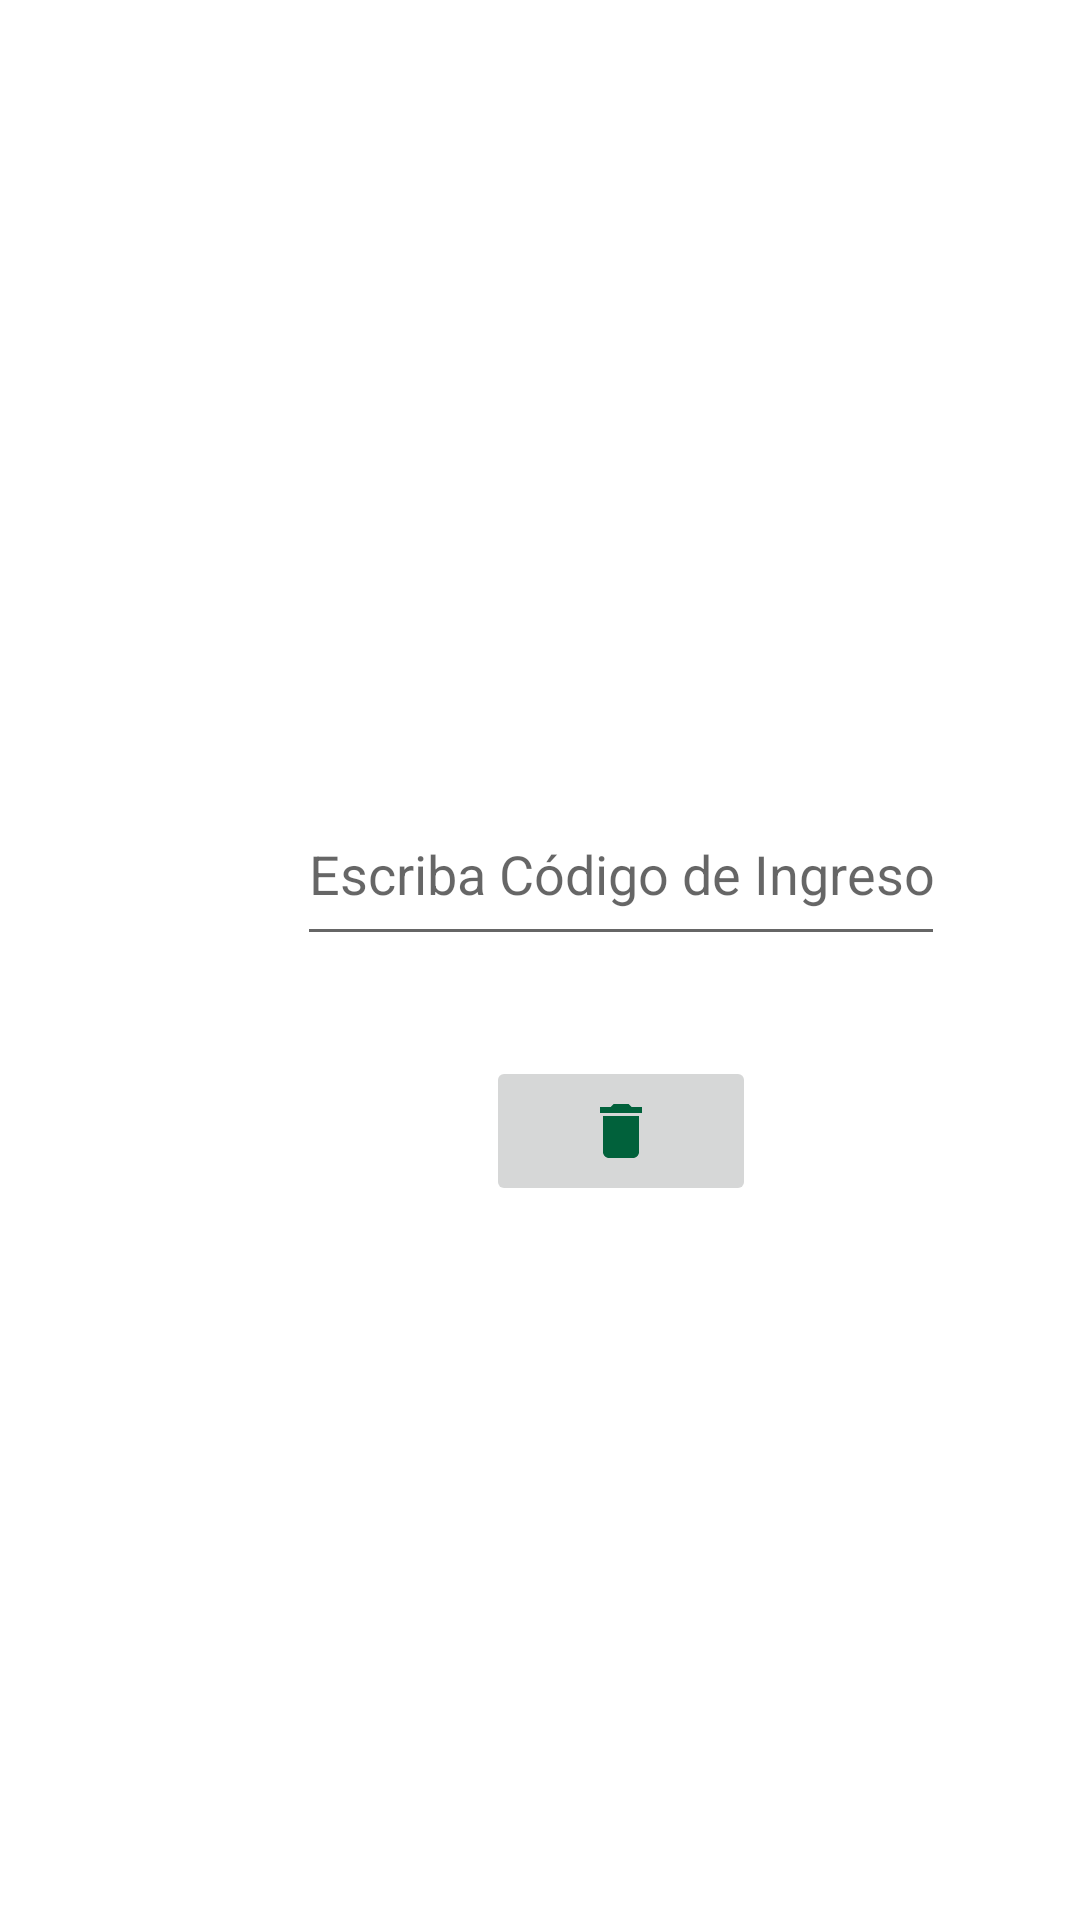

Screen size 1080px x 1920px. Icon name, then its center in pixels as point (x, y):
Eliminar Ingreso: point (621, 1131)
